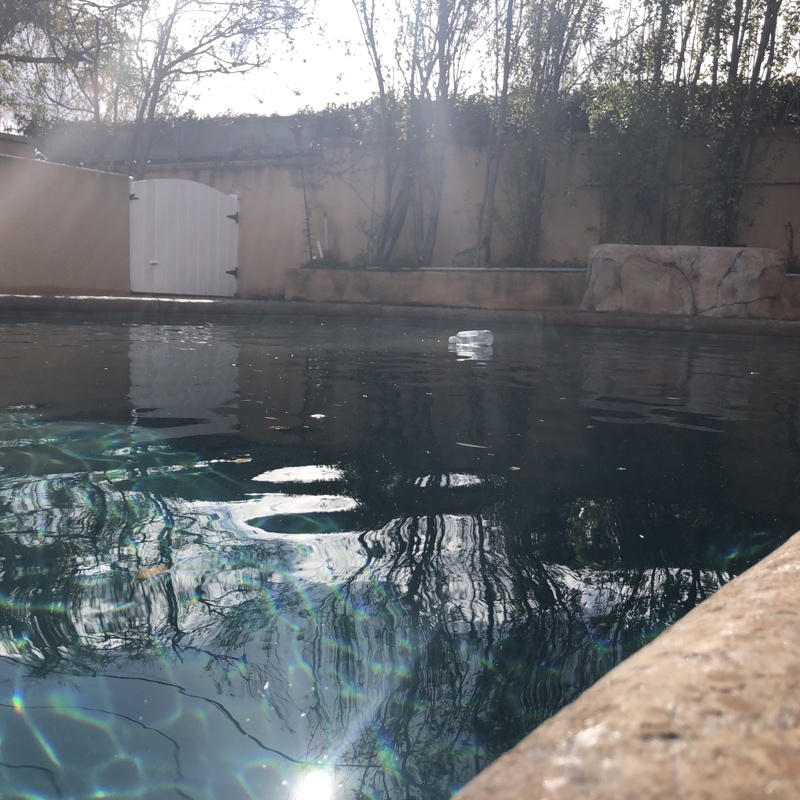Plastic Bottle: (445, 329, 495, 345)
